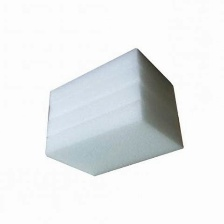foam_box: (39, 45, 189, 181)
